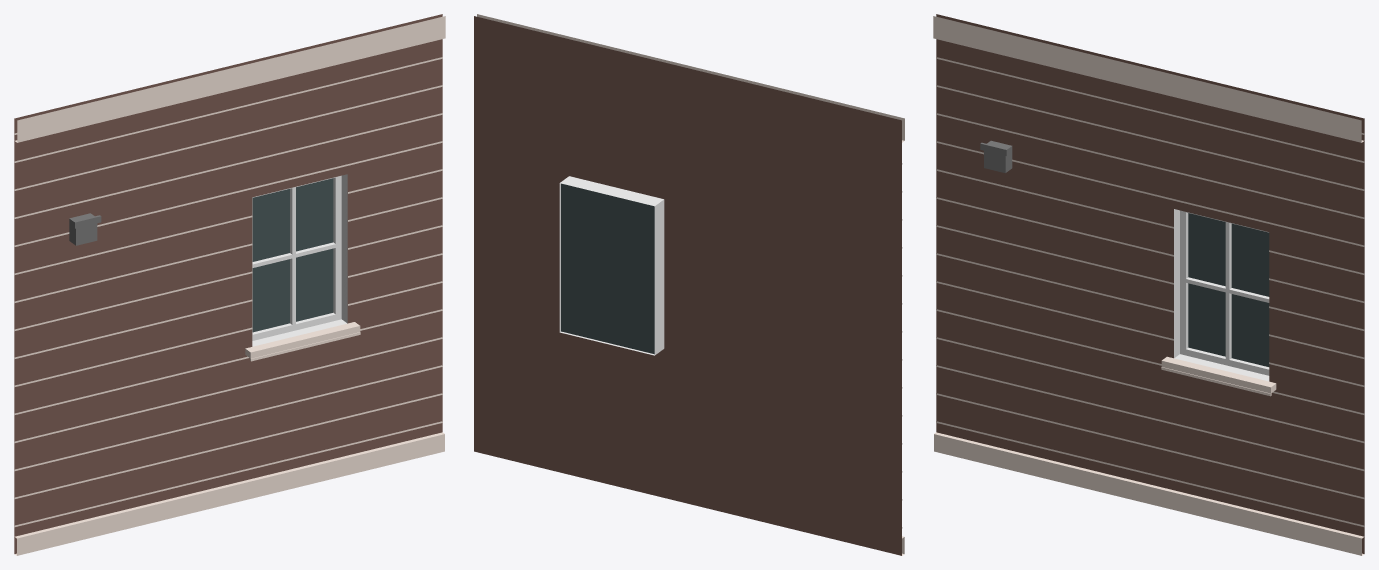
Rendered from top-w4_close.fbx.
The picture shows the model from 3 angles, left to right: view 1: azimuth 30°, elevation 25°; view 2: azimuth 150°, elevation 25°; view 3: azimuth 330°, elevation 25°; orthographic projection.
Visible parts, largest first — view 1: a2000s3/600/top-w4_close; view 2: a2000s3/600/top-w4_close; view 3: a2000s3/600/top-w4_close.
Boxes of the visible parts, <box> form: a2000s3/600/top-w4_close: <box>14,14,445,555</box>; a2000s3/600/top-w4_close: <box>474,14,904,555</box>; a2000s3/600/top-w4_close: <box>933,14,1364,555</box>.
Bounding box in the file's own units: 3.6 × 3.5 × 0.26.
